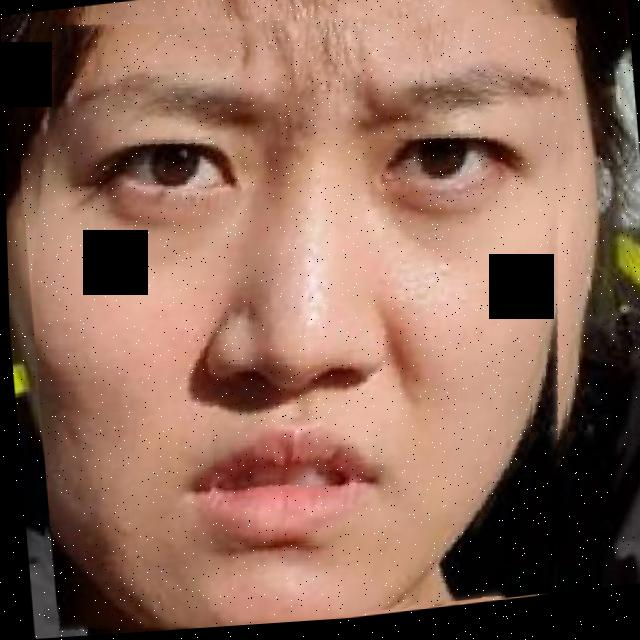anger: (9, 0, 604, 640)
